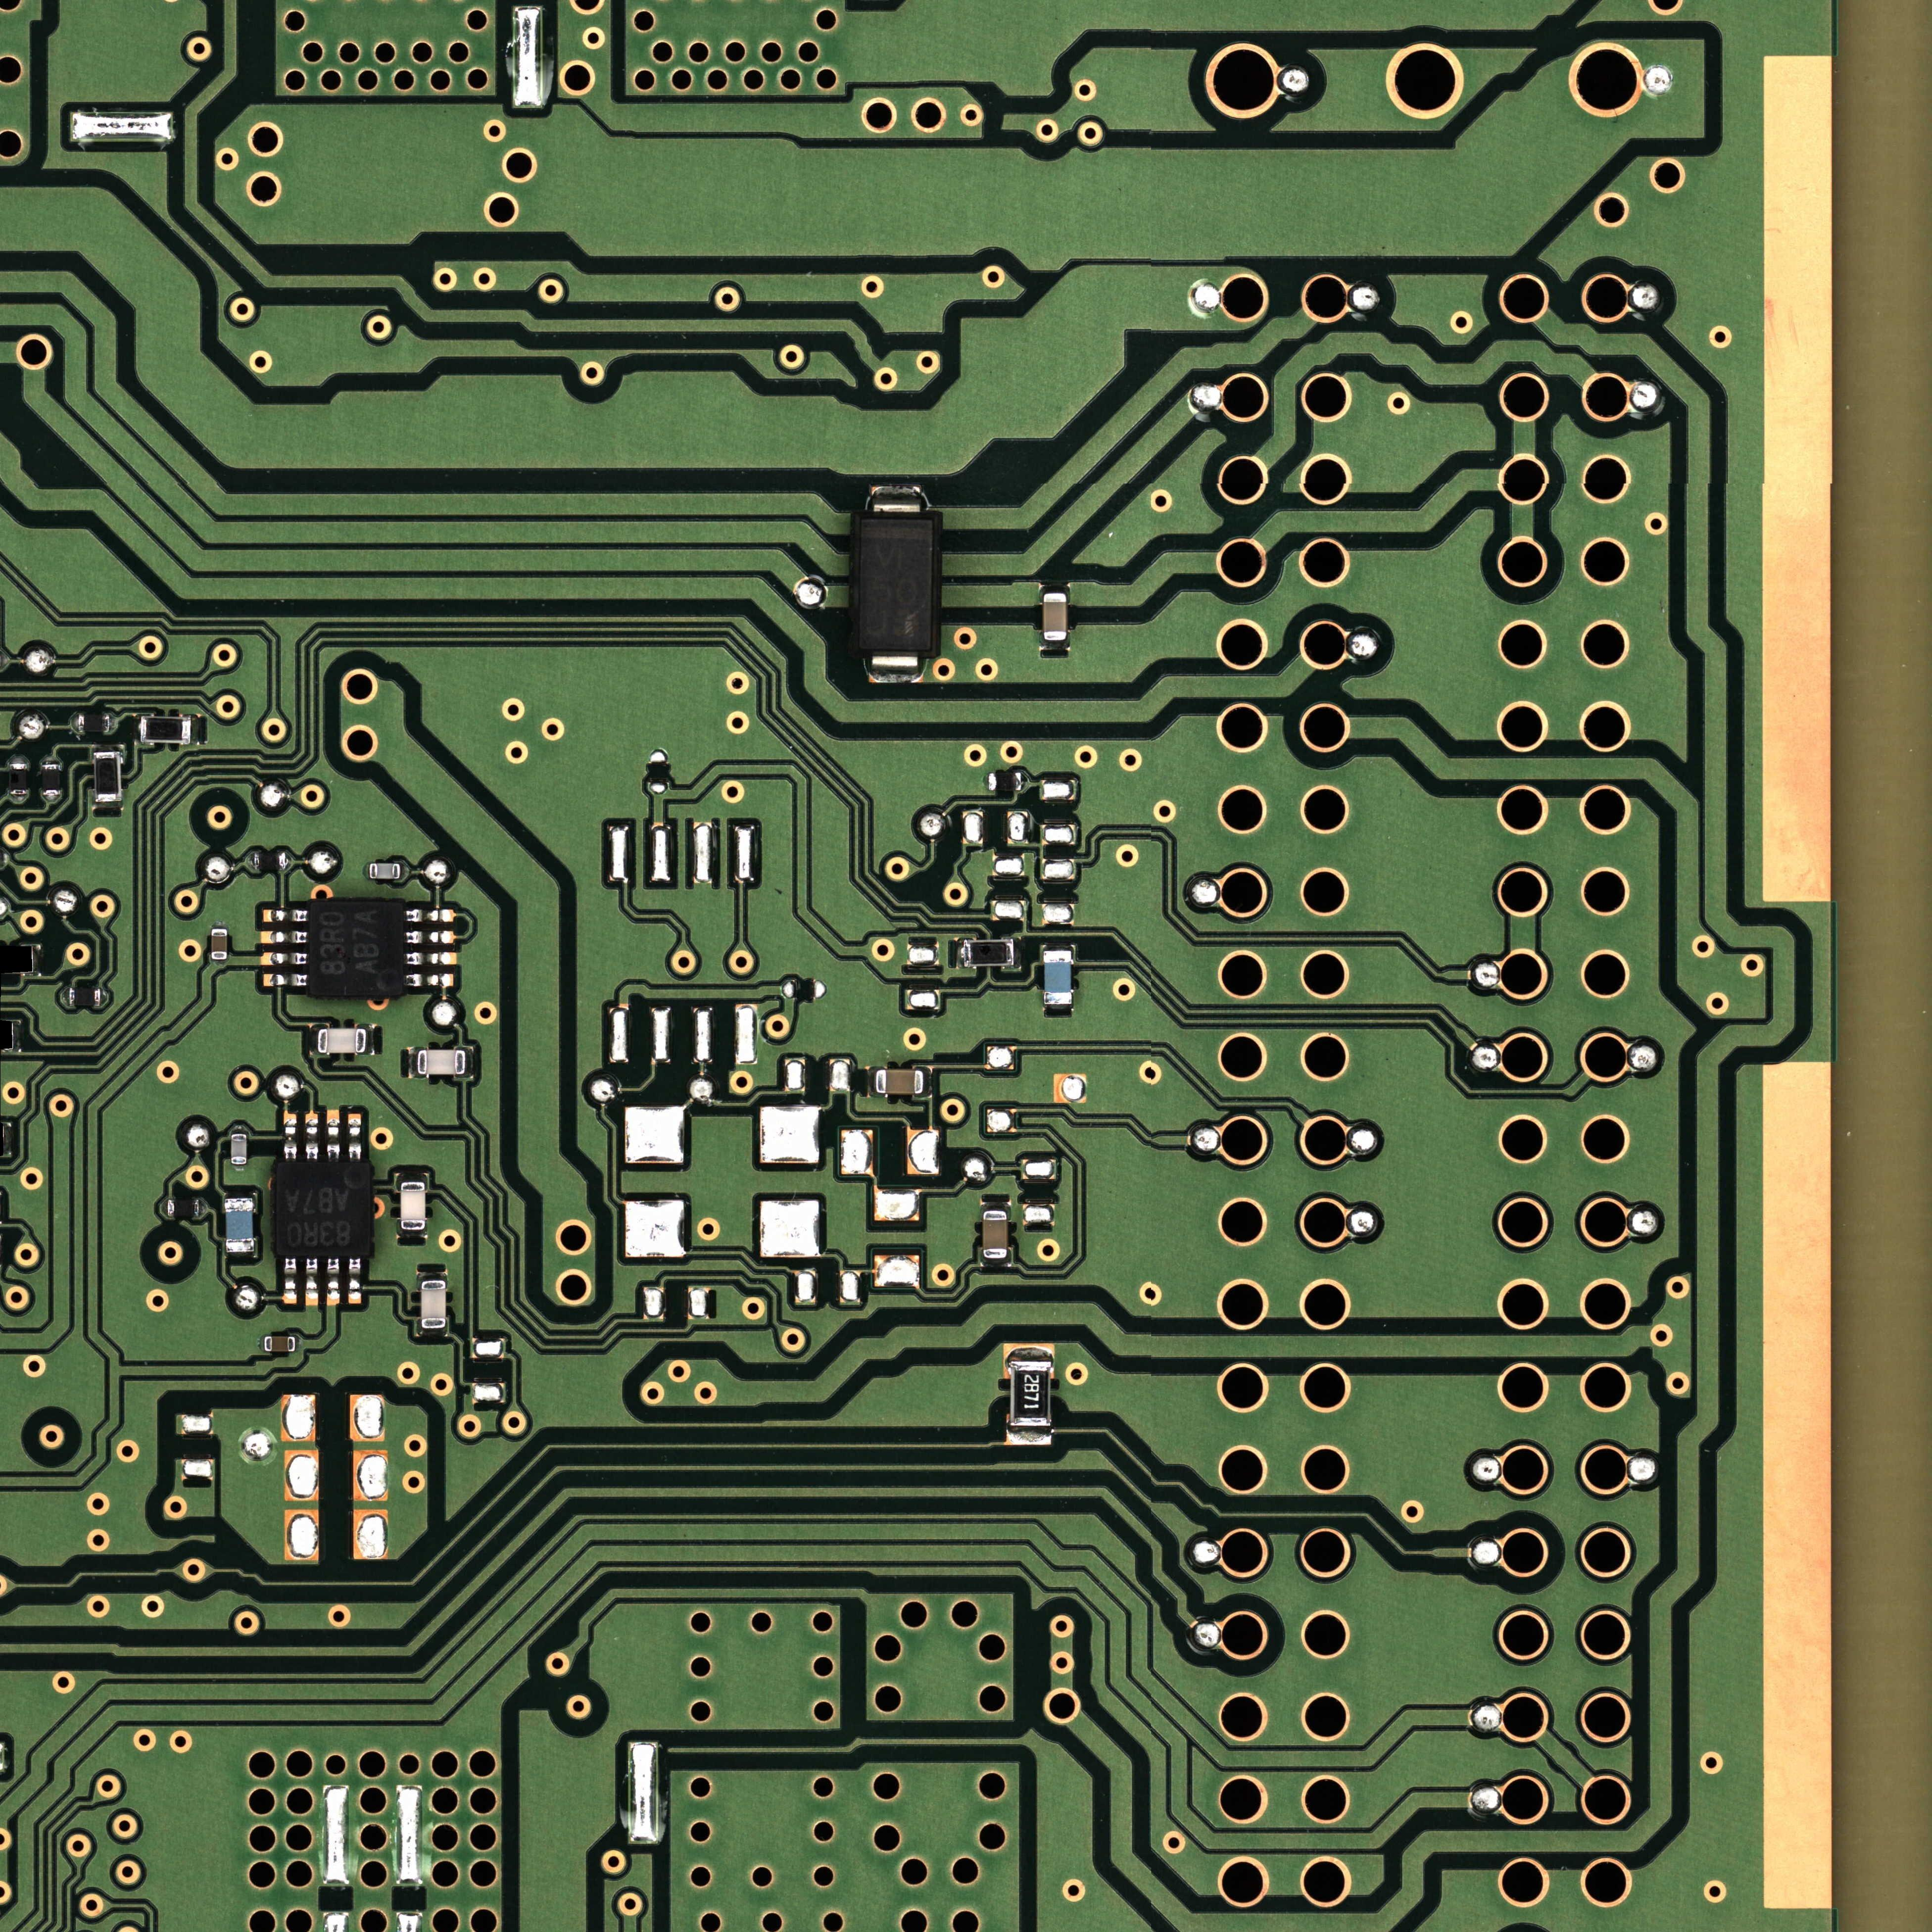Package: (861, 521, 930, 650), (276, 1162, 371, 1256), (309, 902, 403, 996), (1009, 1362, 1051, 1426), (226, 1199, 253, 1252), (1044, 951, 1071, 1004), (964, 940, 1014, 966), (141, 717, 191, 743), (95, 752, 120, 801), (418, 1050, 466, 1075), (876, 1069, 923, 1094), (318, 1028, 366, 1053), (401, 1182, 426, 1230), (421, 1280, 445, 1328), (983, 1210, 1007, 1258), (1043, 593, 1066, 640), (989, 773, 1021, 791), (69, 988, 100, 1006), (254, 852, 286, 870), (78, 715, 109, 732), (168, 1200, 199, 1217), (43, 765, 60, 795), (10, 764, 27, 794), (211, 929, 227, 960), (231, 1134, 247, 1164), (370, 863, 400, 878), (265, 1336, 295, 1352)
Solder: (868, 651, 924, 683), (870, 486, 921, 520), (1004, 1343, 1055, 1361), (1006, 1427, 1052, 1446), (403, 953, 457, 966), (403, 930, 455, 944), (327, 1110, 340, 1161), (403, 973, 454, 987), (262, 972, 308, 988), (403, 910, 455, 923), (305, 1111, 318, 1162), (284, 1111, 297, 1162), (305, 1257, 319, 1306), (261, 952, 307, 966), (261, 930, 307, 944), (283, 1257, 297, 1305), (327, 1257, 340, 1305), (263, 909, 308, 923), (348, 1113, 361, 1161), (348, 1257, 361, 1304), (408, 1047, 418, 1078), (1040, 583, 1070, 593), (923, 1066, 932, 1098), (396, 1173, 428, 1182), (33, 944, 42, 975), (13, 1021, 22, 1052), (223, 1188, 255, 1197), (867, 1066, 876, 1097), (1040, 641, 1070, 650), (1014, 938, 1022, 969), (981, 1202, 1011, 1210), (980, 1258, 1012, 1267), (417, 1328, 448, 1337), (466, 1046, 474, 1078), (417, 1271, 447, 1280), (397, 1230, 427, 1238), (956, 938, 964, 968), (191, 715, 199, 745), (366, 1024, 374, 1055), (310, 1025, 318, 1055), (92, 743, 121, 751), (1042, 944, 1074, 951), (134, 714, 141, 743), (94, 802, 122, 809), (1043, 1004, 1073, 1011), (225, 1252, 256, 1258), (42, 755, 61, 764), (9, 755, 28, 763), (61, 988, 69, 1006), (360, 861, 368, 879), (257, 1334, 265, 1352), (296, 1335, 304, 1352), (211, 960, 229, 967), (210, 921, 229, 928), (42, 796, 60, 803), (402, 863, 409, 881), (9, 795, 27, 802), (100, 988, 107, 1006), (287, 852, 294, 869), (69, 714, 77, 730), (246, 852, 253, 869), (231, 1126, 247, 1134), (981, 773, 988, 791), (110, 716, 118, 731), (161, 1200, 168, 1216), (1021, 773, 1028, 790), (199, 1200, 206, 1216), (231, 1164, 247, 1171)
